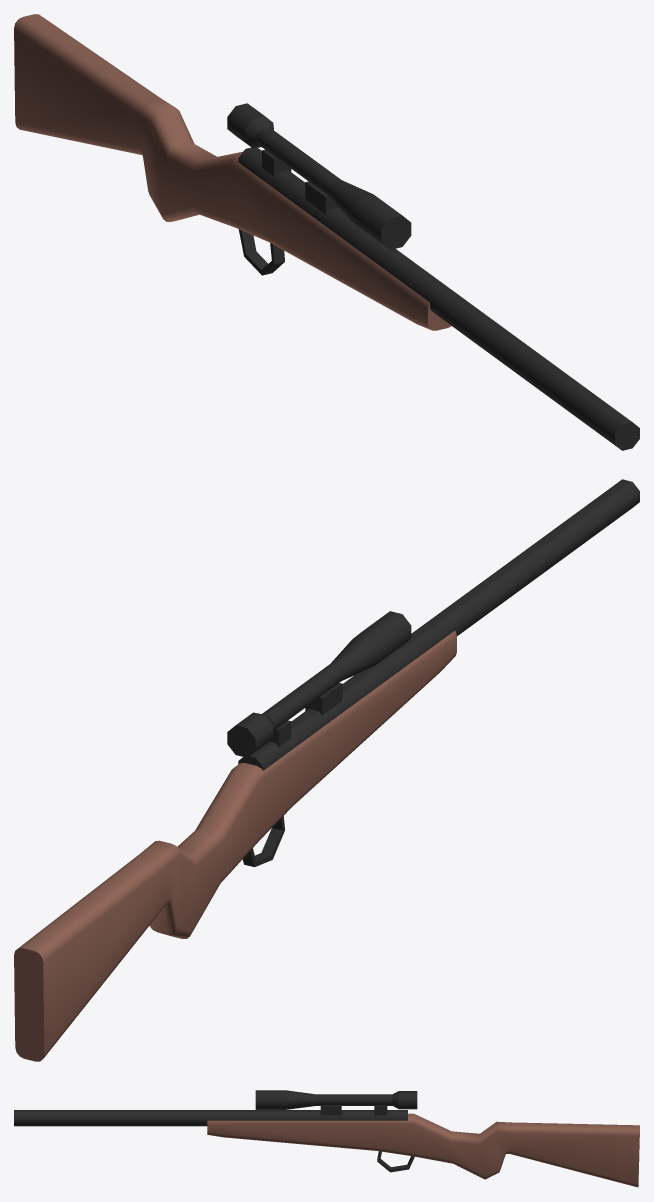
3 renders of one model, top to bottom at view 1: azimuth 30°, elevation 25°; view 2: azimuth 150°, elevation 25°; view 3: azimuth 270°, elevation 25°, orthographic. The views are drawn at different scales.
Parts seen in each view (by area): view 1: M40 Body; view 2: M40 Body; view 3: M40 Body.
Part boxes in pixels (x1,y1,x2,y2): M40 Body: (14, 14, 639, 450); M40 Body: (14, 479, 639, 1061); M40 Body: (14, 1090, 639, 1187).
Size of the model in its own units: 6.76 by 38.57 by 233.
